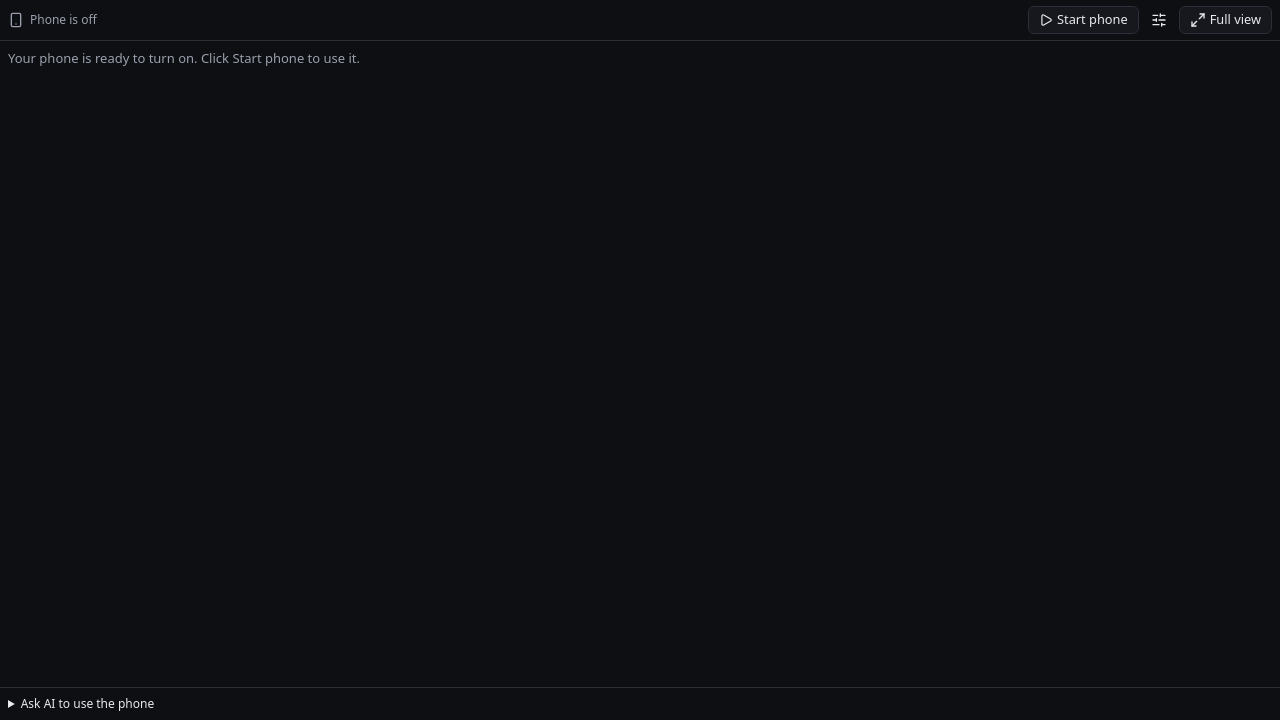
Scenario: Mobile Workspace › only reads status on open; never starts or installs automatically
Expected: the button "Start phone" is shown, [1028,6,1139,34]
Click the button named "Phone controls".
click(1159, 20)  # box [1145,6,1173,34]
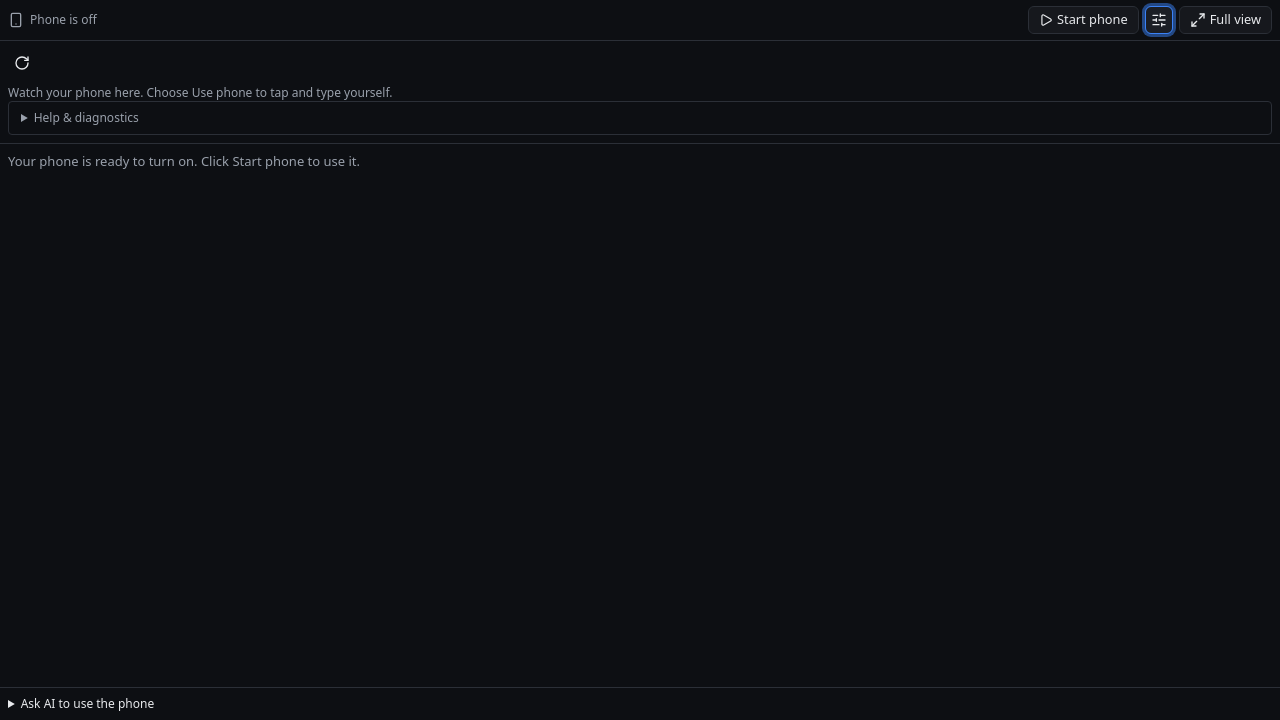
Expected: the heading "Help & diagnostics" is shown, [34,109,139,126]
